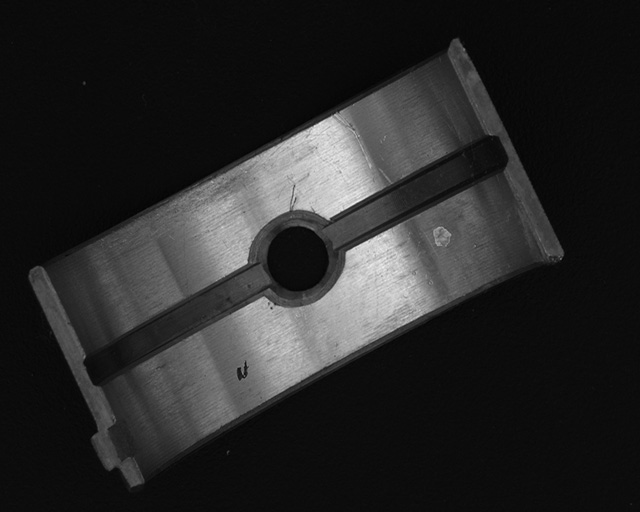blot: (236, 360, 250, 382)
bruise: (433, 225, 453, 249)
gap: (85, 267, 268, 382), (330, 141, 506, 244)
hole: (249, 218, 341, 304)
nick: (331, 110, 373, 171), (289, 183, 298, 213)
scratch: (89, 159, 254, 247)
